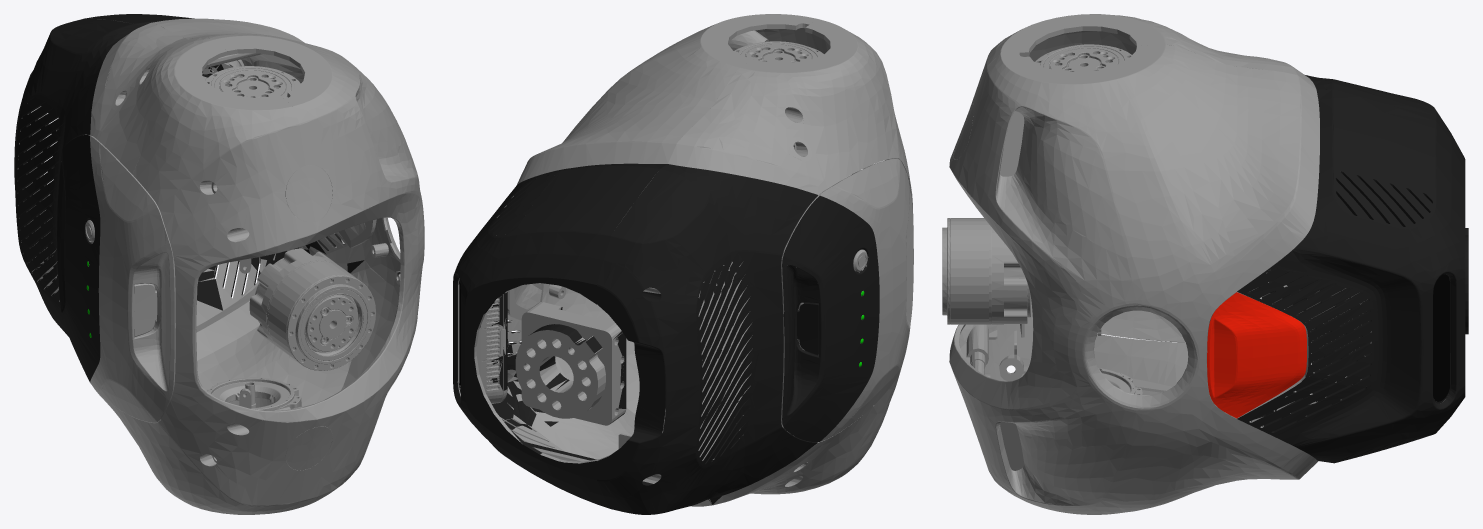
Rendered from torso.obj.
3 renders of one model, left to right at view 1: azimuth 30°, elevation 25°; view 2: azimuth 150°, elevation 25°; view 3: azimuth 270°, elevation 25°, orthographic. The views are drawn at different scales.
Visible parts, largest first — view 1: LINK_TORSO_YAW; view 2: LINK_TORSO_YAW; view 3: LINK_TORSO_YAW.
Boxes of the visible parts, box(x1,y1,x2,y2) form: LINK_TORSO_YAW: box(14, 14, 424, 514); LINK_TORSO_YAW: box(453, 14, 913, 514); LINK_TORSO_YAW: box(942, 14, 1468, 514).
Bounding box in the file's own units: 0.22 × 0.2819 × 0.3055.
